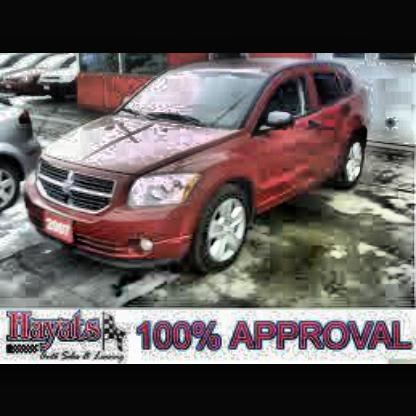Dodge Caliber Wagon 2012: (25, 64, 371, 280)
